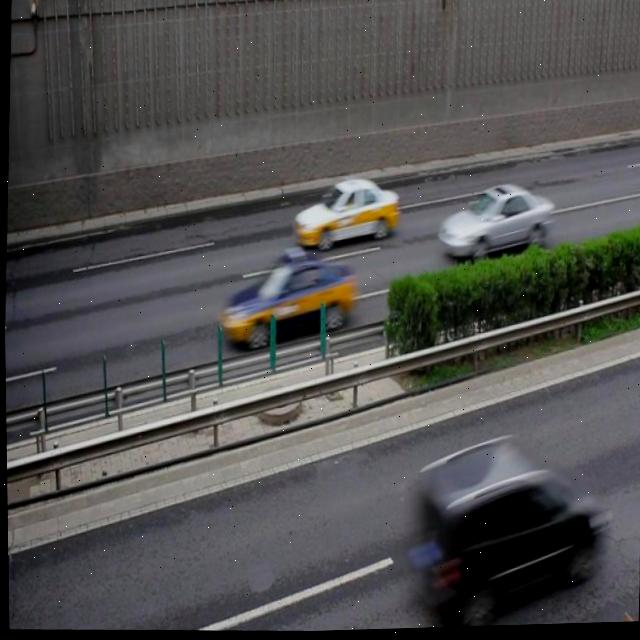car: (409, 429, 599, 631), (217, 251, 354, 349), (435, 183, 552, 265), (292, 172, 399, 252)
